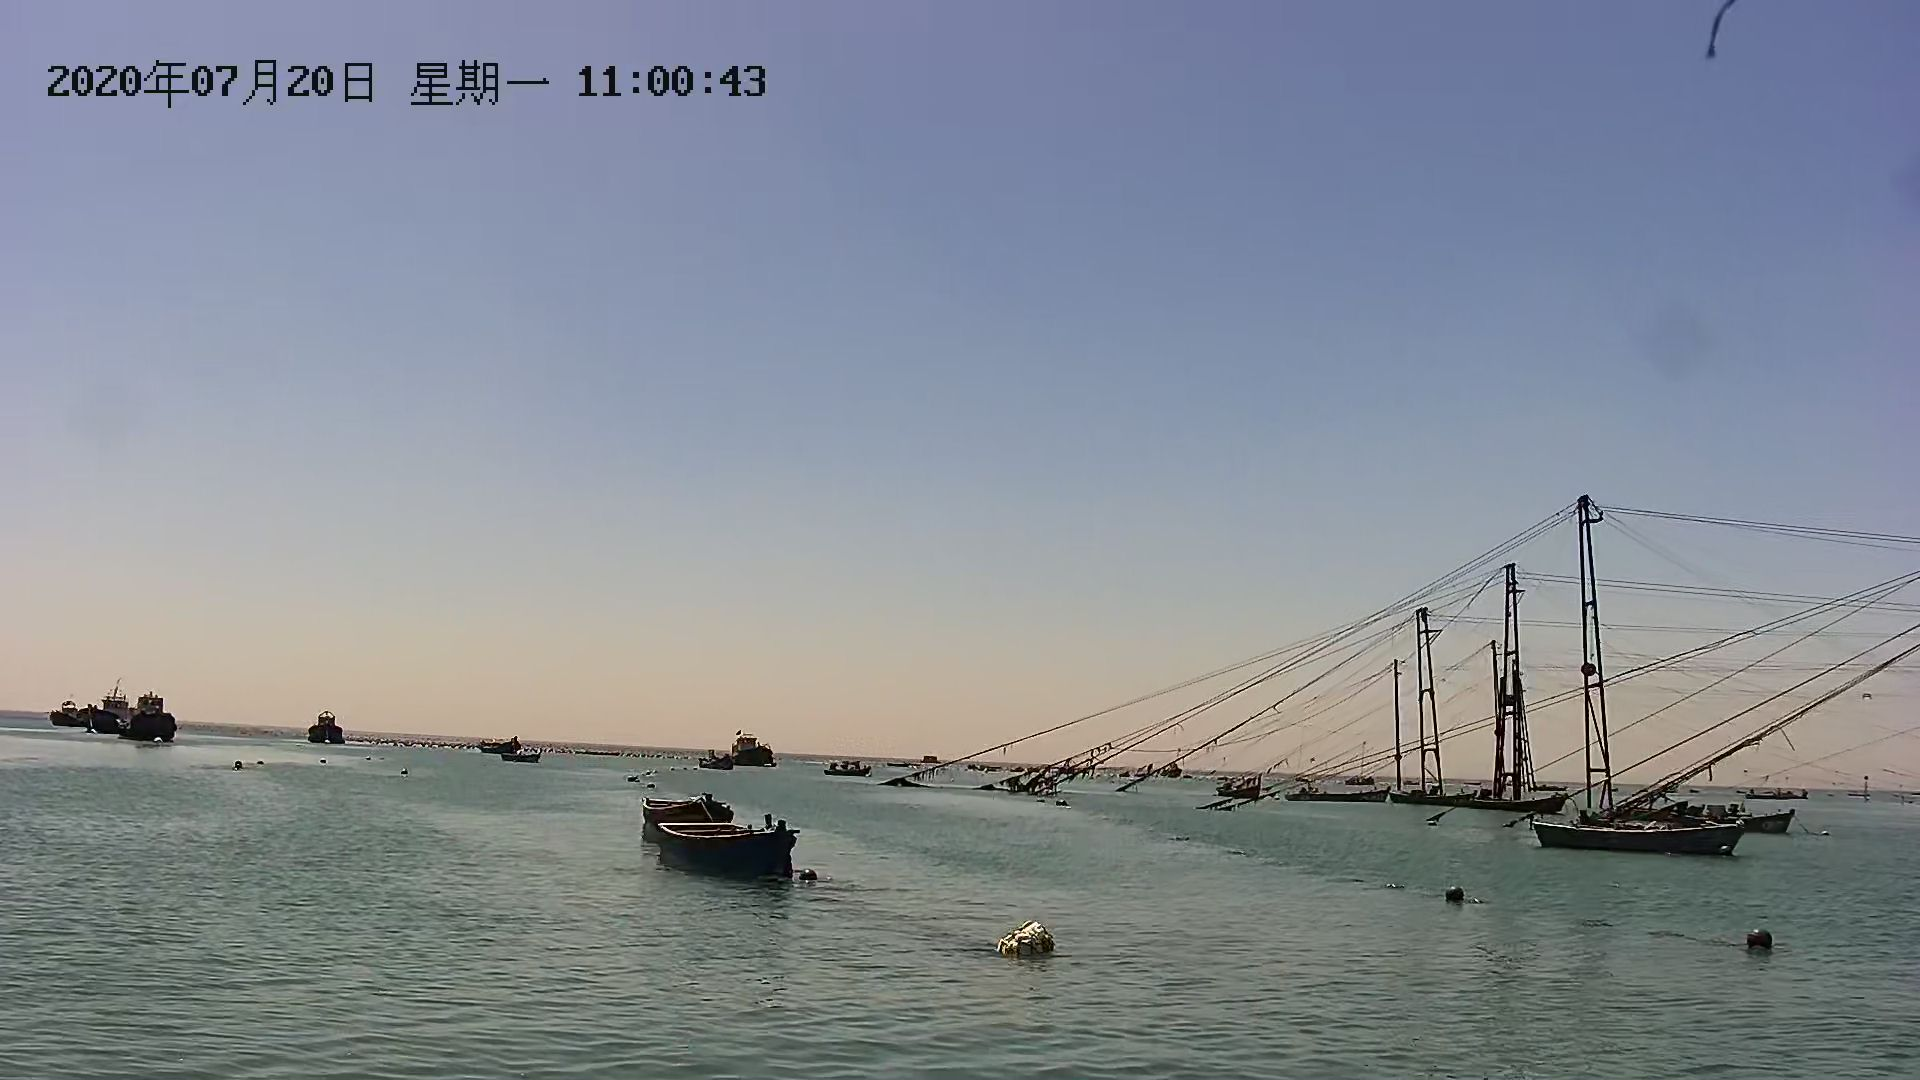ball: (1749, 924, 1782, 956), (1439, 884, 1468, 903)
boat: (1528, 818, 1750, 861), (651, 820, 796, 877), (630, 793, 735, 829), (1461, 787, 1572, 818), (1283, 778, 1389, 810), (818, 761, 874, 783), (477, 736, 524, 754), (501, 749, 547, 767)
mast: (1569, 480, 1623, 814), (1491, 558, 1531, 800), (1414, 607, 1449, 799), (1390, 658, 1407, 796)
rubbish: (988, 916, 1072, 965)
ship: (84, 688, 142, 736), (716, 731, 781, 767), (301, 708, 349, 746)
